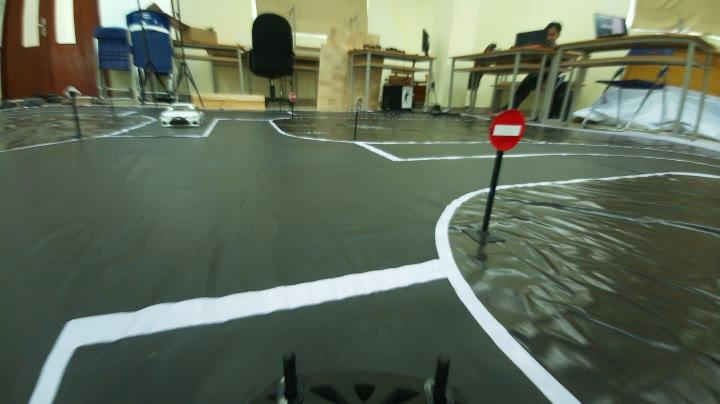no_entry: (488, 104, 520, 148)
